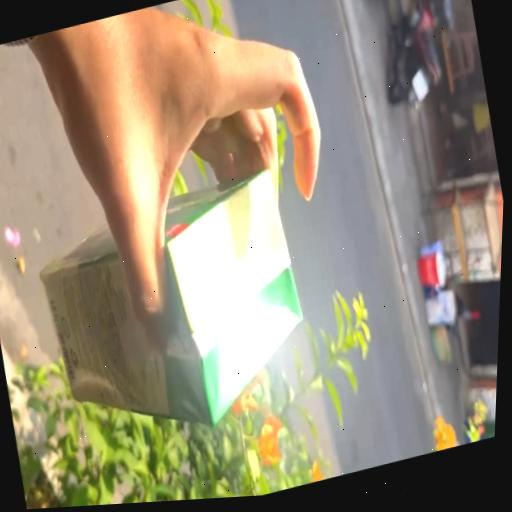ly_giay: (40, 171, 302, 424)
